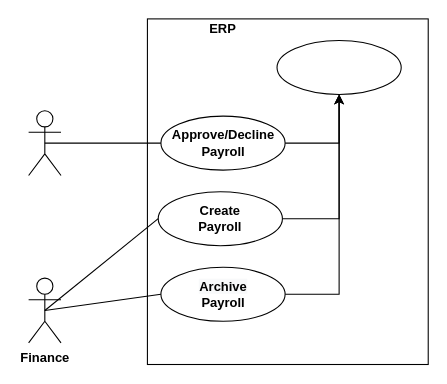
Some shapes in this 447 by 384 pixel diagram are drawn without their labels. Here are the shapes that lost their labels. From the top down, the centre of each, then its label:
the point at 338,66: Manage Payroll {abstract}
the point at 44,143: General Manager
